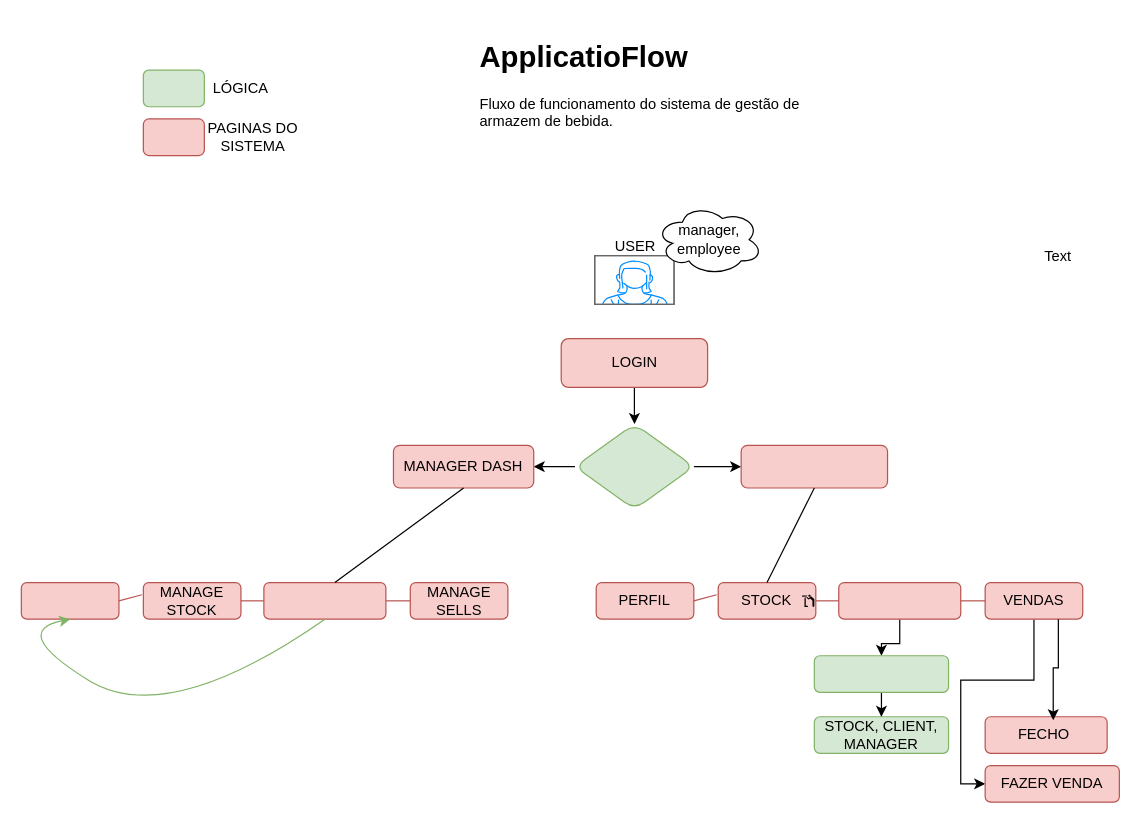
Image size: 1141x824. Some labels were removed from this diagram. Here are the shapes that lost their labels. From the top down, the centre of each, then its label:
At (x=634, y=466): "PERMISSION".
At (x=814, y=466): "EMPLOYEE DASH".
At (x=69, y=600): "EMPLOYEES".
At (x=324, y=600): "NOTIFICATIONS".
At (x=899, y=600): "NOTIFICAÇÕES".
At (x=881, y=673): "VER NOTIF... OU RESP....".
